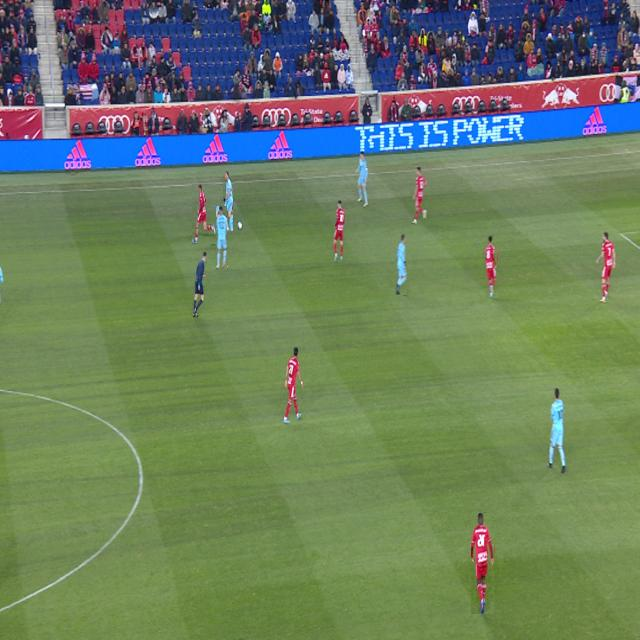football: (238, 221, 242, 230)
player: (471, 513, 494, 614), (283, 347, 304, 423), (547, 389, 566, 473), (596, 232, 616, 303), (192, 185, 216, 244), (412, 167, 427, 224), (333, 200, 345, 262), (355, 151, 368, 207), (486, 236, 497, 298), (396, 234, 407, 295), (217, 206, 227, 270), (224, 171, 233, 231)
referee: (193, 252, 206, 317)
